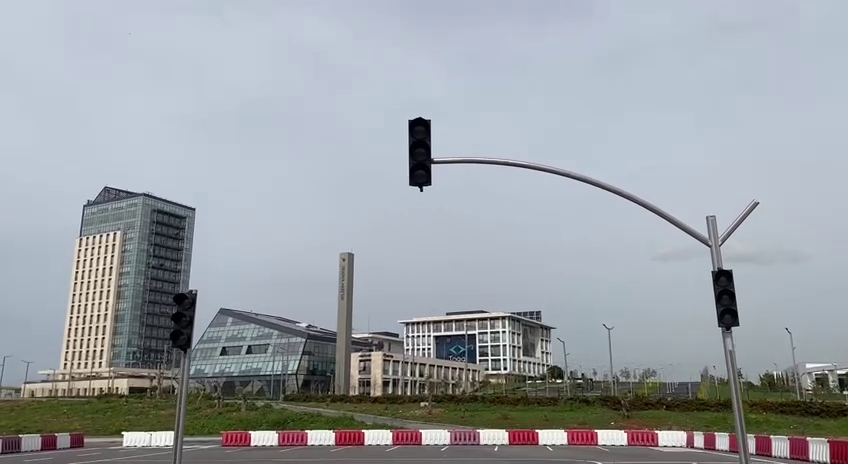trafficLight: (401, 111, 437, 196), (708, 265, 743, 334), (167, 290, 197, 355)
